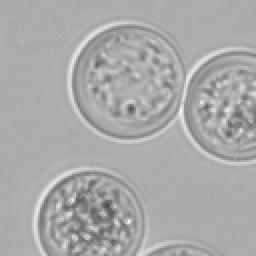picoshell: (66, 20, 184, 142), (32, 164, 146, 254), (180, 48, 254, 164), (142, 240, 220, 254)
